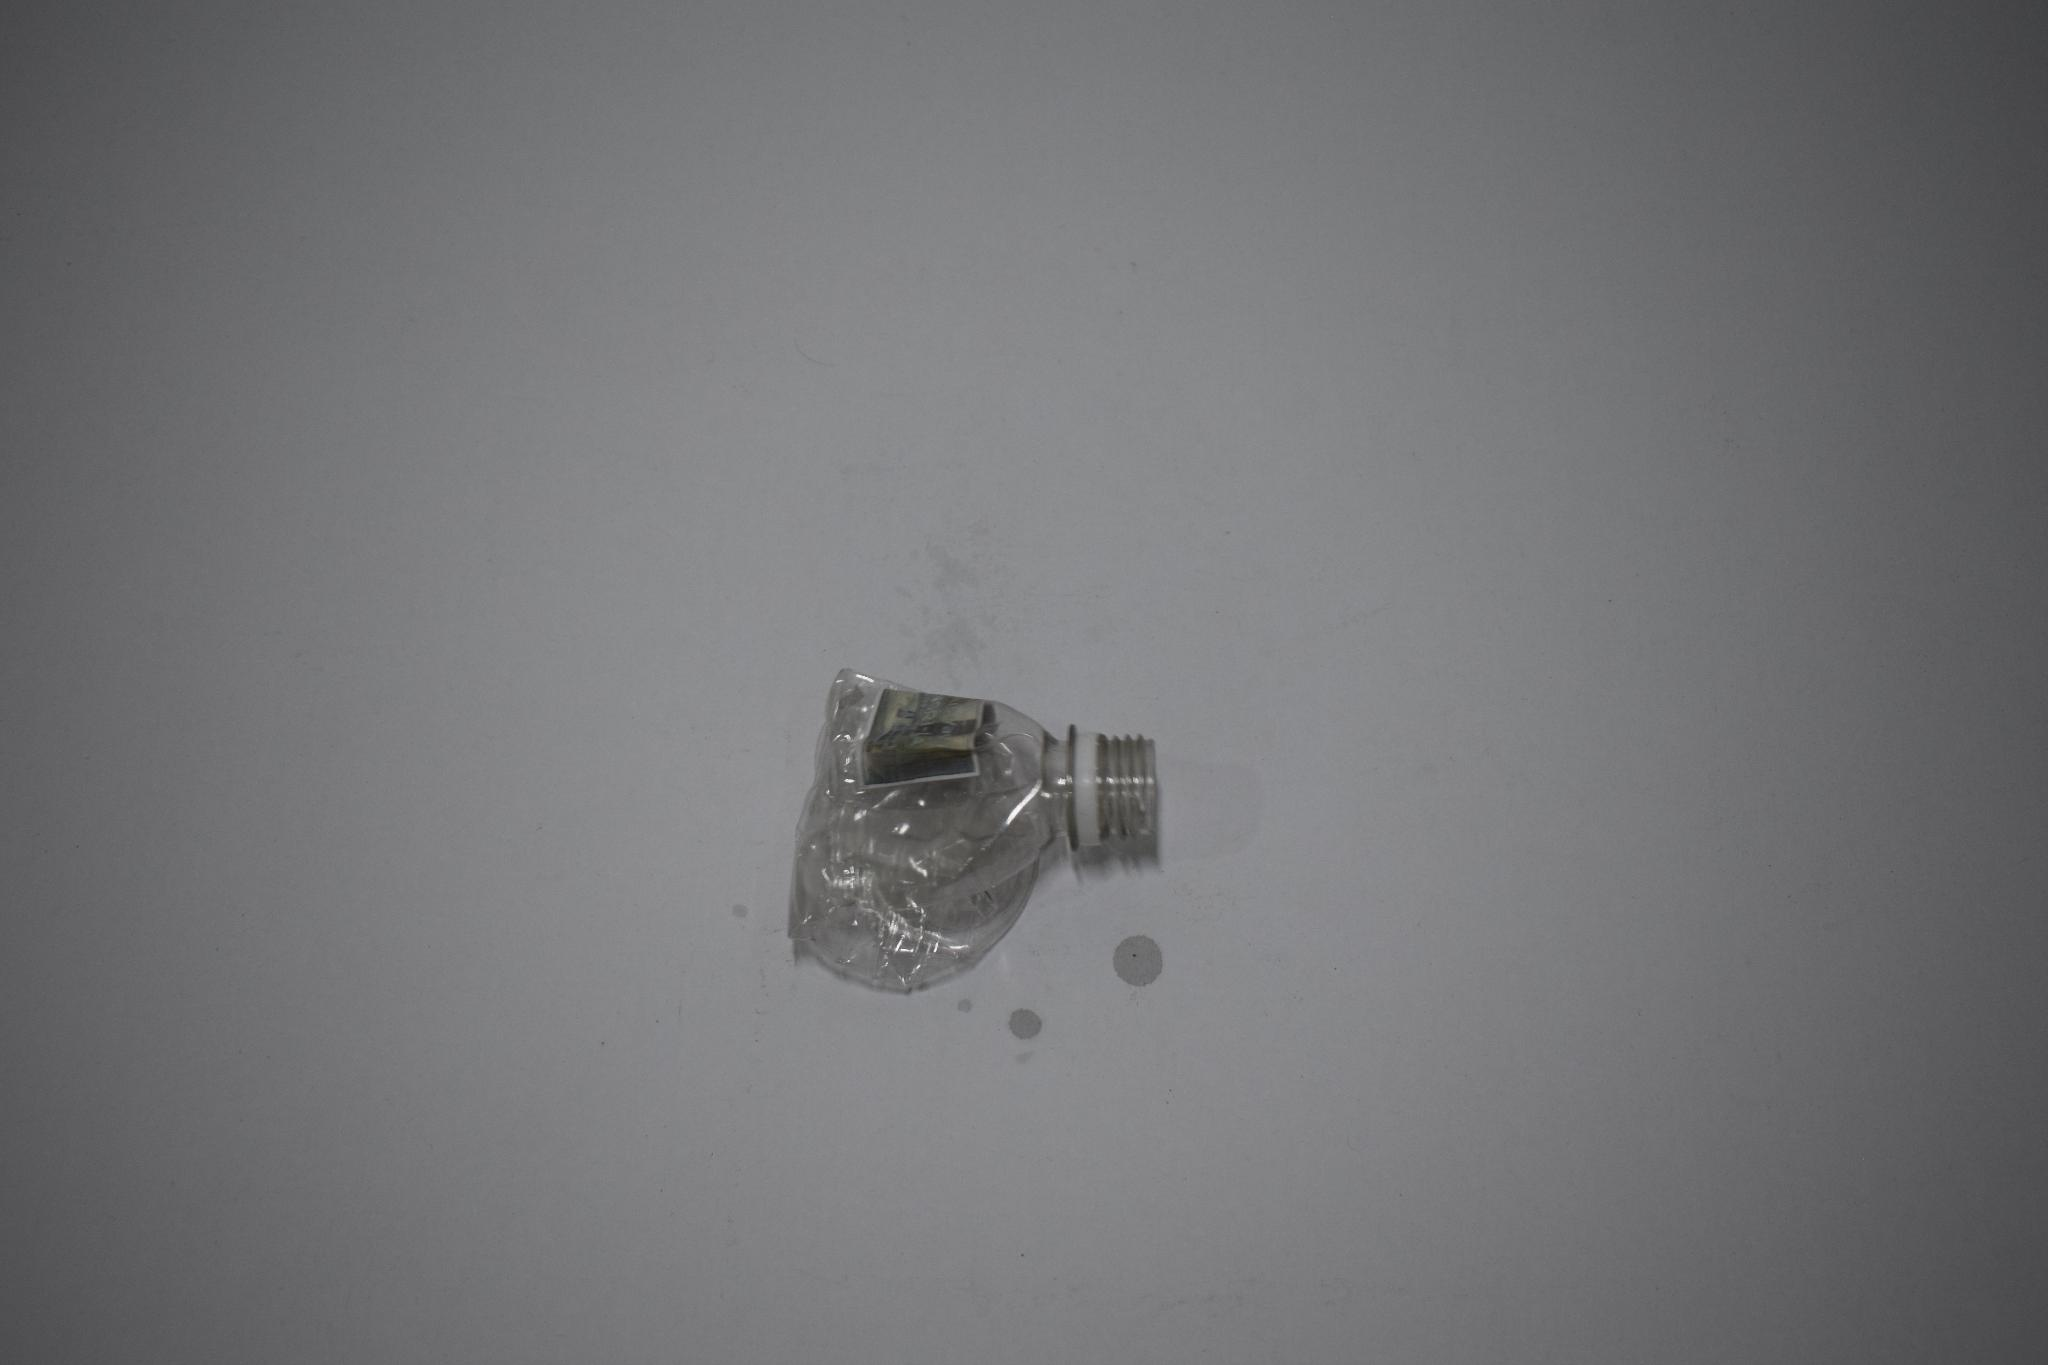bottle: (772, 693, 1157, 966)
